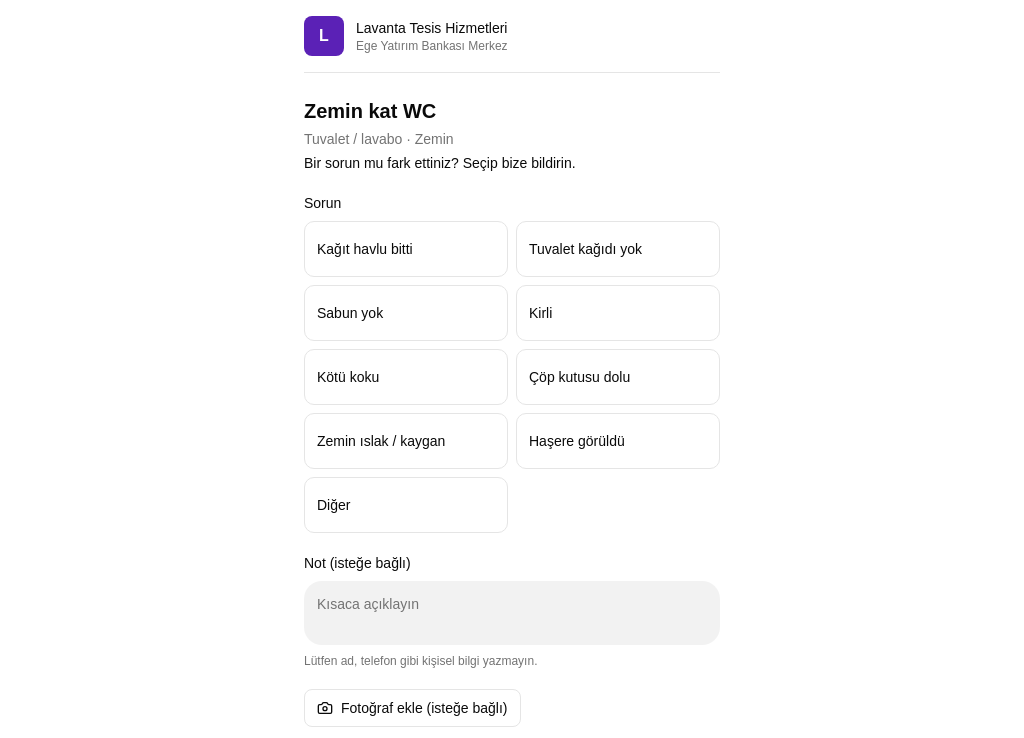
Test: Batch 4.3 public QR bildirim sayfası › sunucu bekleme süresi (429) bilgi ekranına çevrilir
Click the button "Kirli" at {"x": 618, "y": 313}, box [516,285,720,341]
(page scrolled)
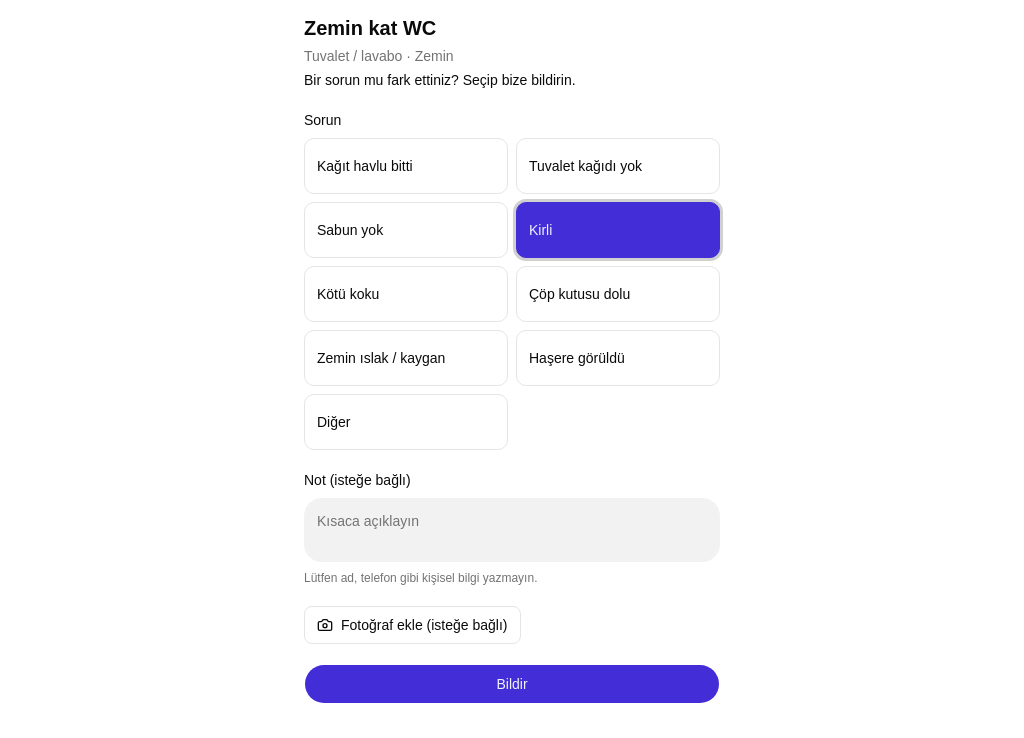
Click the button "Bildir" at {"x": 512, "y": 684}, box [304,664,720,704]
(page scrolled)
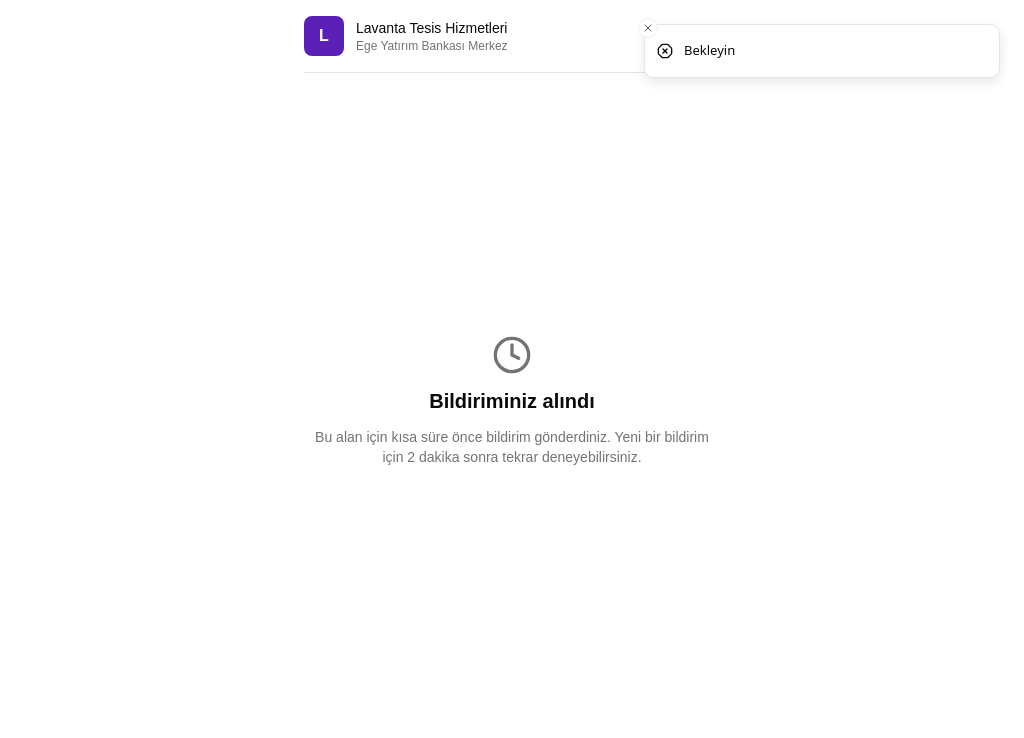
Result: the heading "Bildiriminiz alındı" is shown at [429,386,595,414]
